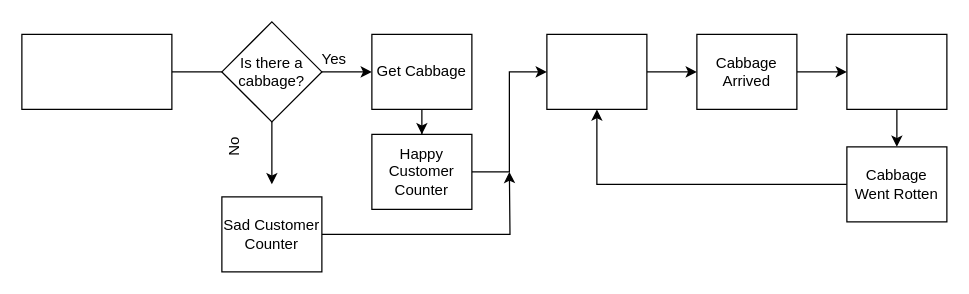
The diagram is 969 pixels wide and 294 high, and some of its shapes have lost their labels. The centre of each missing label's shape, as x and y in pixels:
Customer Entry U (0, 3): the point at 96,71
Order Cabbage U (1, 15): the point at 596,71
Rotten Counter U (7, 12): the point at 896,71
